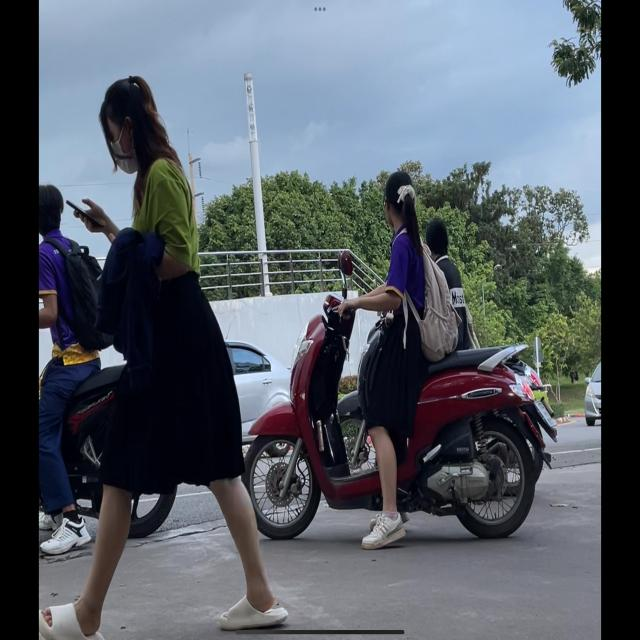seatbelt: (97, 74, 167, 177), (382, 170, 418, 232), (39, 182, 66, 239), (424, 218, 450, 260)
